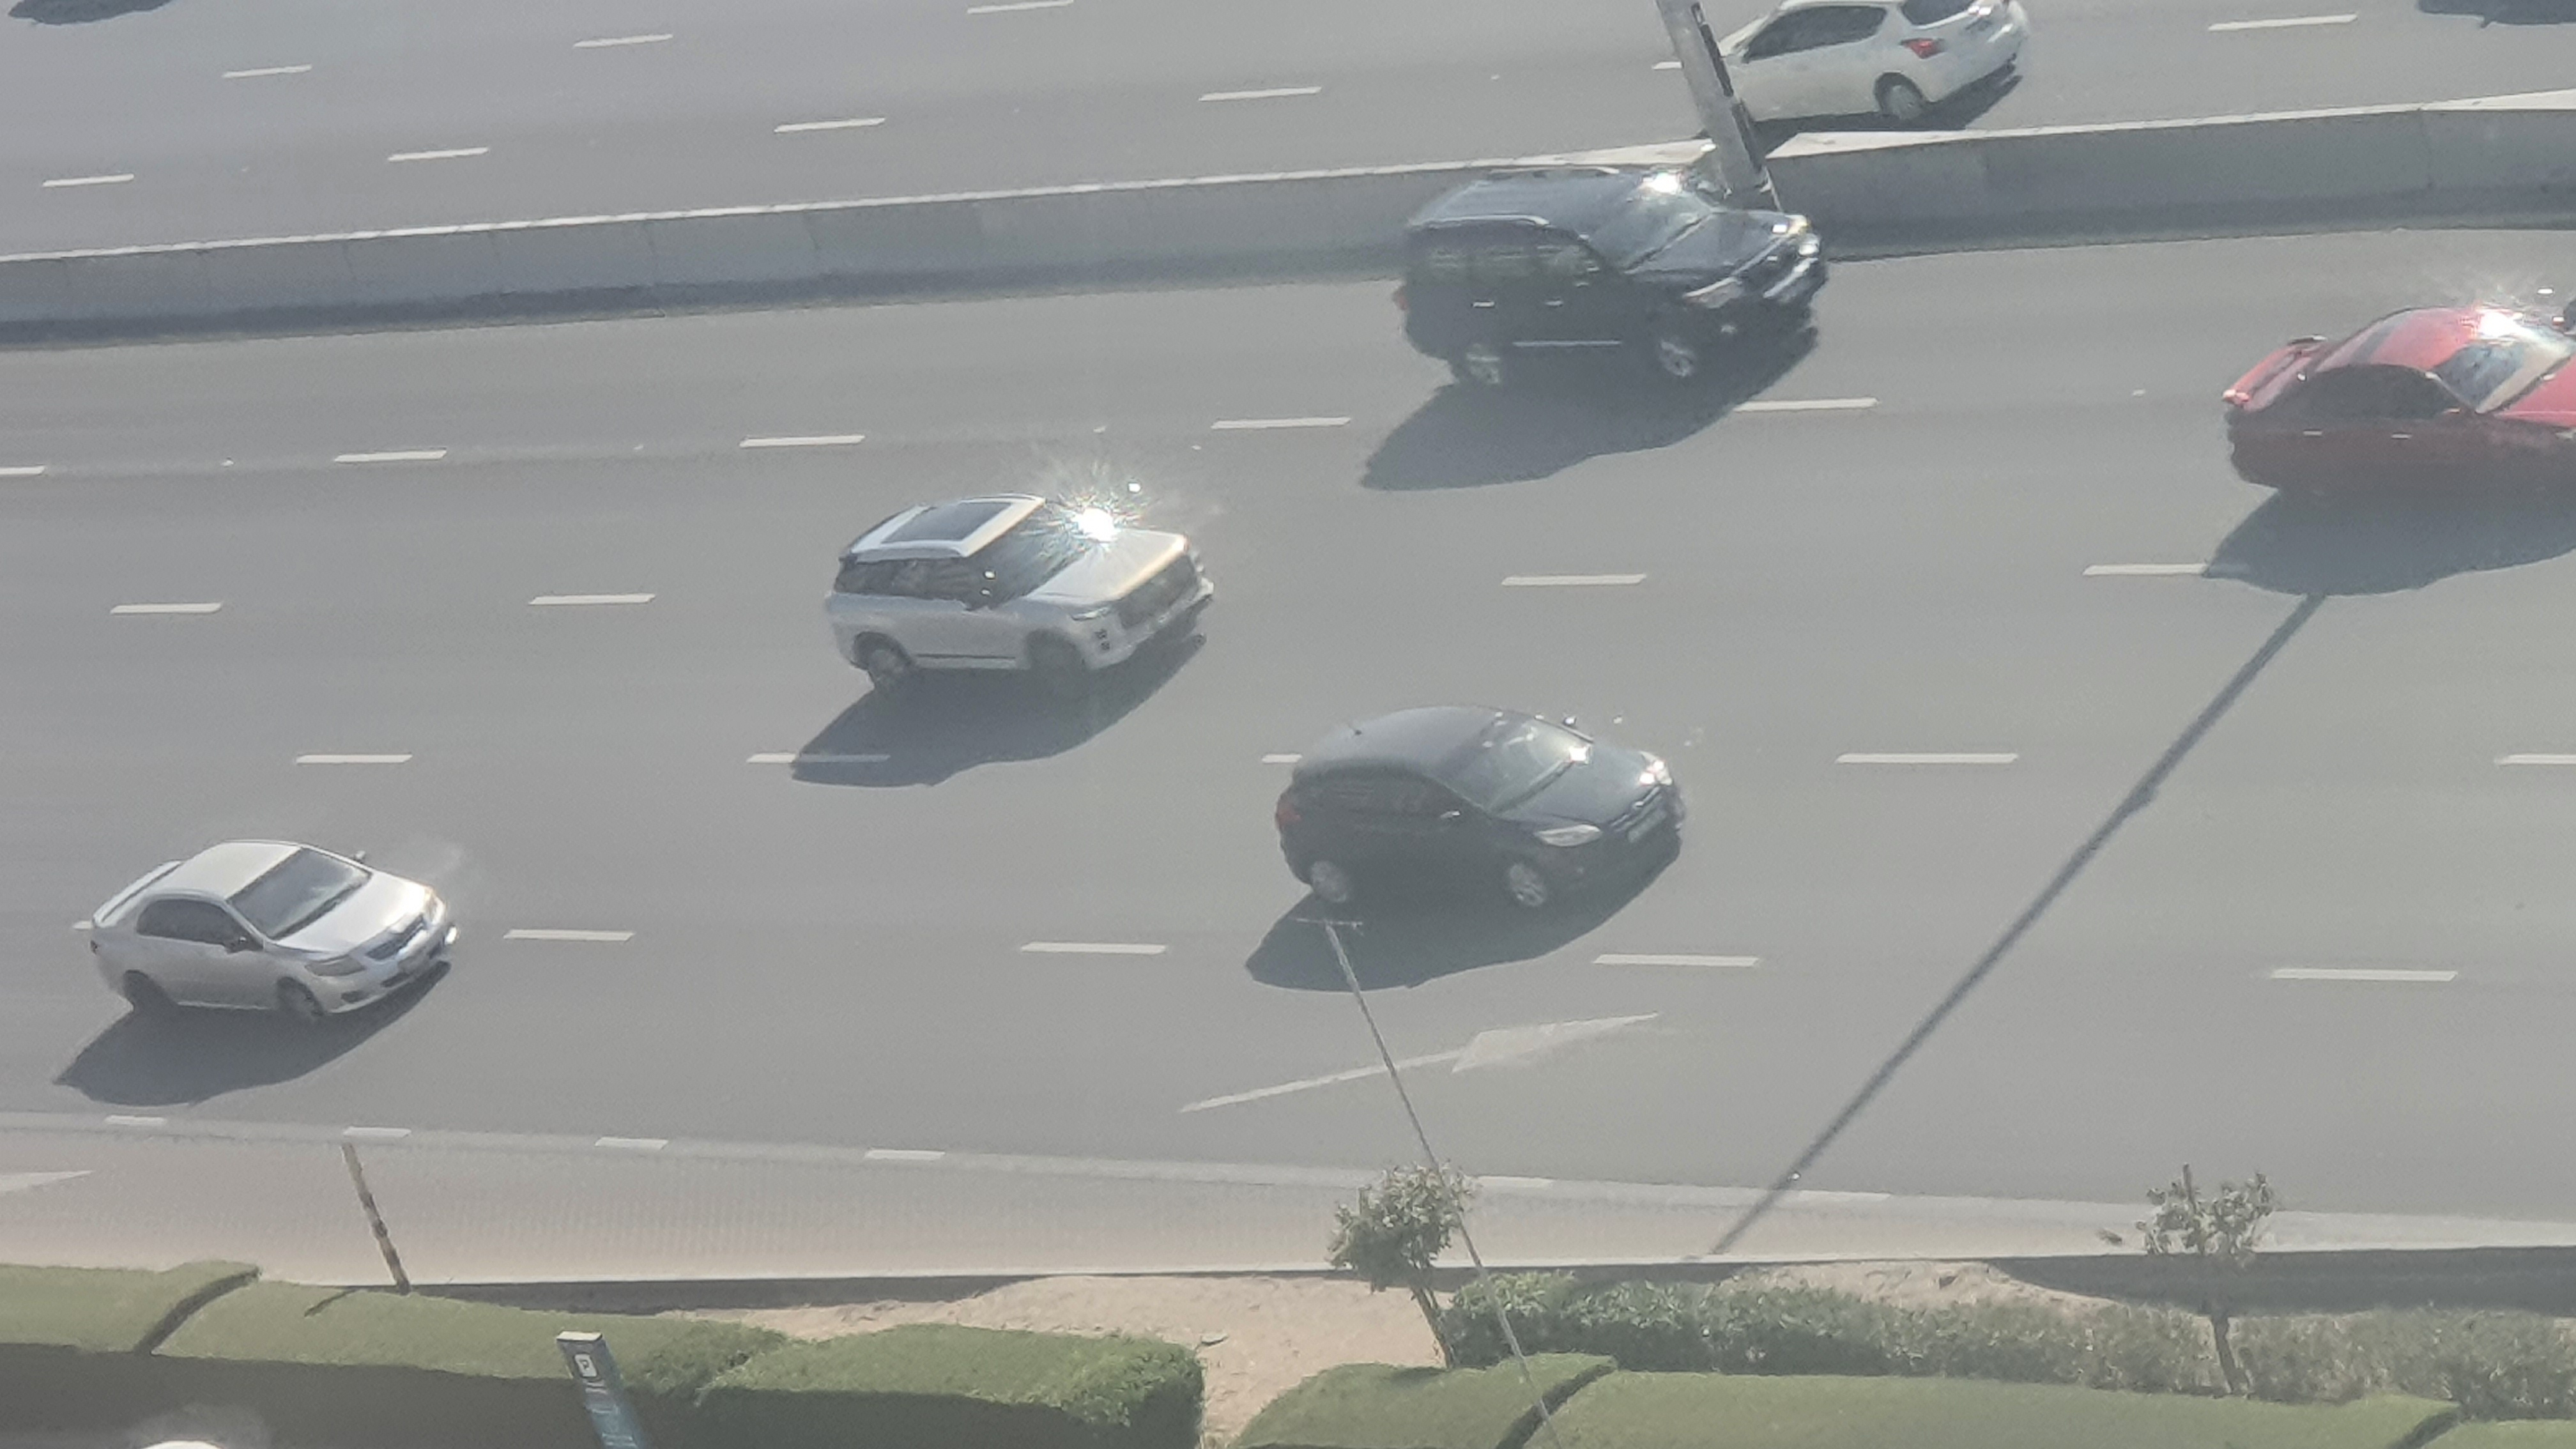NotSunroof: (1385, 159, 1833, 400), (1272, 690, 1690, 924), (69, 828, 458, 1047), (2217, 297, 2576, 517)
Sunroof: (821, 487, 1224, 706)
